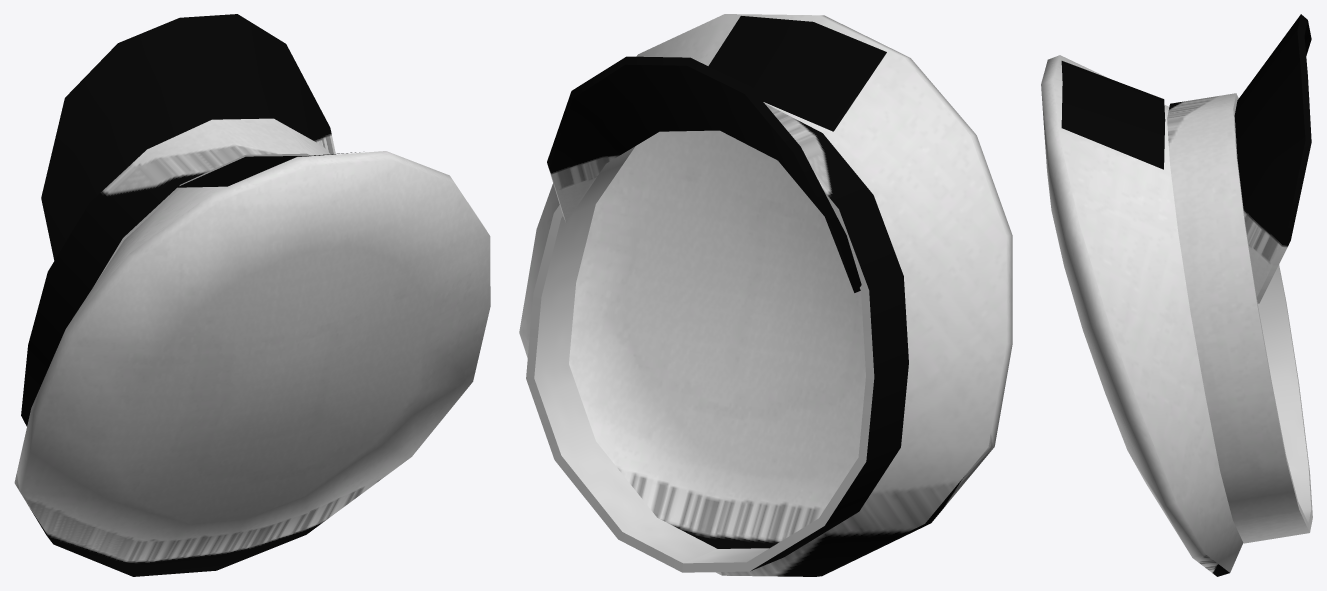
The model's file is Headwear36.glb.
3 views of the same model, side by side, from view 1: azimuth 30°, elevation 25°; view 2: azimuth 150°, elevation 25°; view 3: azimuth 270°, elevation 25° (orthographic). The views are drawn at different scales.
Parts seen in each view (by area): view 1: Headwear36; view 2: Headwear36; view 3: Headwear36.
Boxes of the visible parts, x1,y1,x2,y2 form: Headwear36: (14,14,490,576); Headwear36: (519,14,1012,576); Headwear36: (1041,14,1312,576).
Bounding box in the file's own units: 2.38 × 2.64 × 1.25.
1 material, 1 textured.
